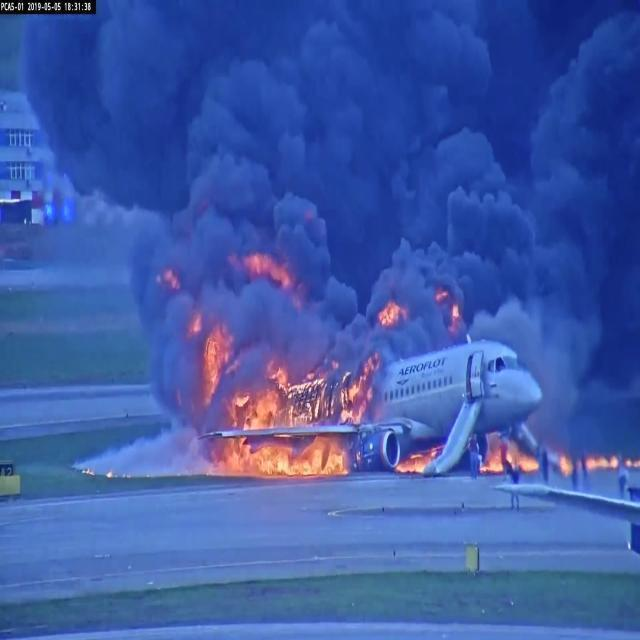Fire: (241, 371, 365, 424), (220, 441, 341, 480)
Smoke: (390, 2, 640, 288), (185, 51, 355, 326)
